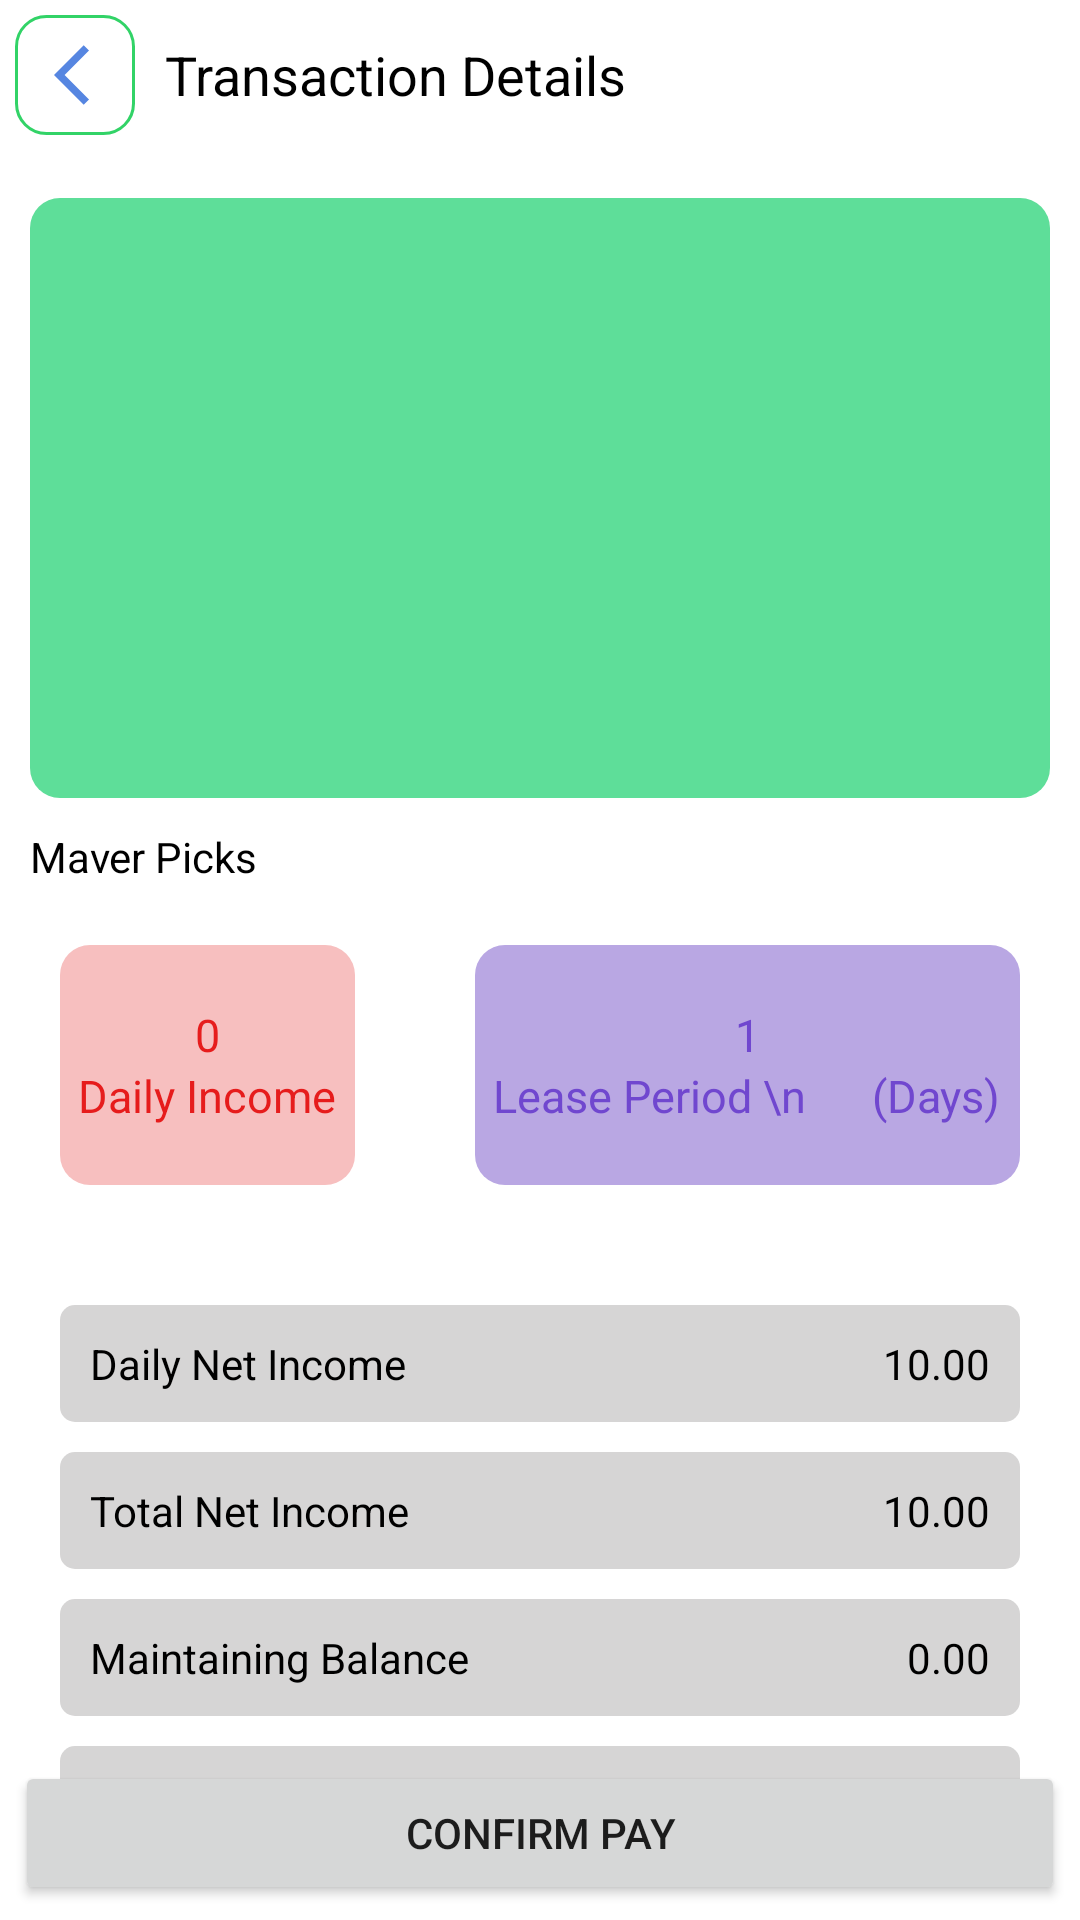

Where to tap for icons on this 1080px×1920px app screen, as point (x, y):
back: point (75, 75)
